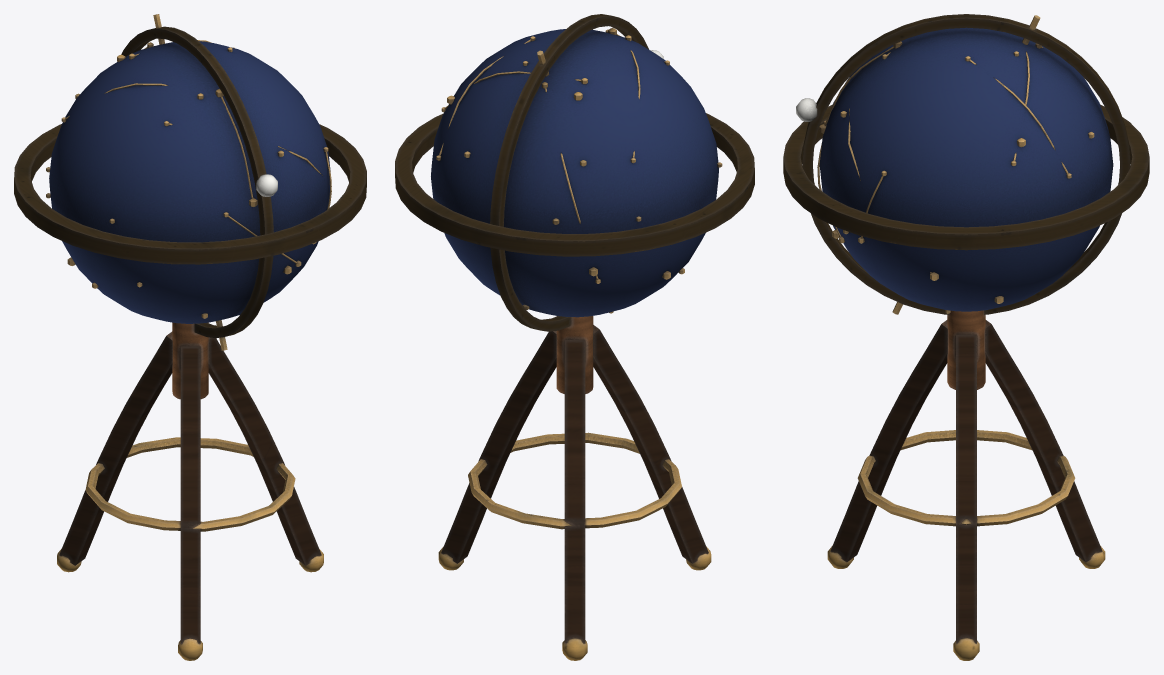
Rendered from CelestialGlobe.fbx.
The picture shows the model from 3 angles, left to right: view 1: azimuth 30°, elevation 25°; view 2: azimuth 150°, elevation 25°; view 3: azimuth 270°, elevation 25°; orthographic projection. The views are drawn at different scales.
Visible parts, largest first — view 1: CelestialGlobe; view 2: CelestialGlobe; view 3: CelestialGlobe.
Boxes of the visible parts, x1,y1,x2,y2 form: CelestialGlobe: [14, 14, 366, 660]; CelestialGlobe: [395, 14, 754, 660]; CelestialGlobe: [783, 14, 1149, 660].
Bounding box in the file's own units: 212 × 372 × 212.
